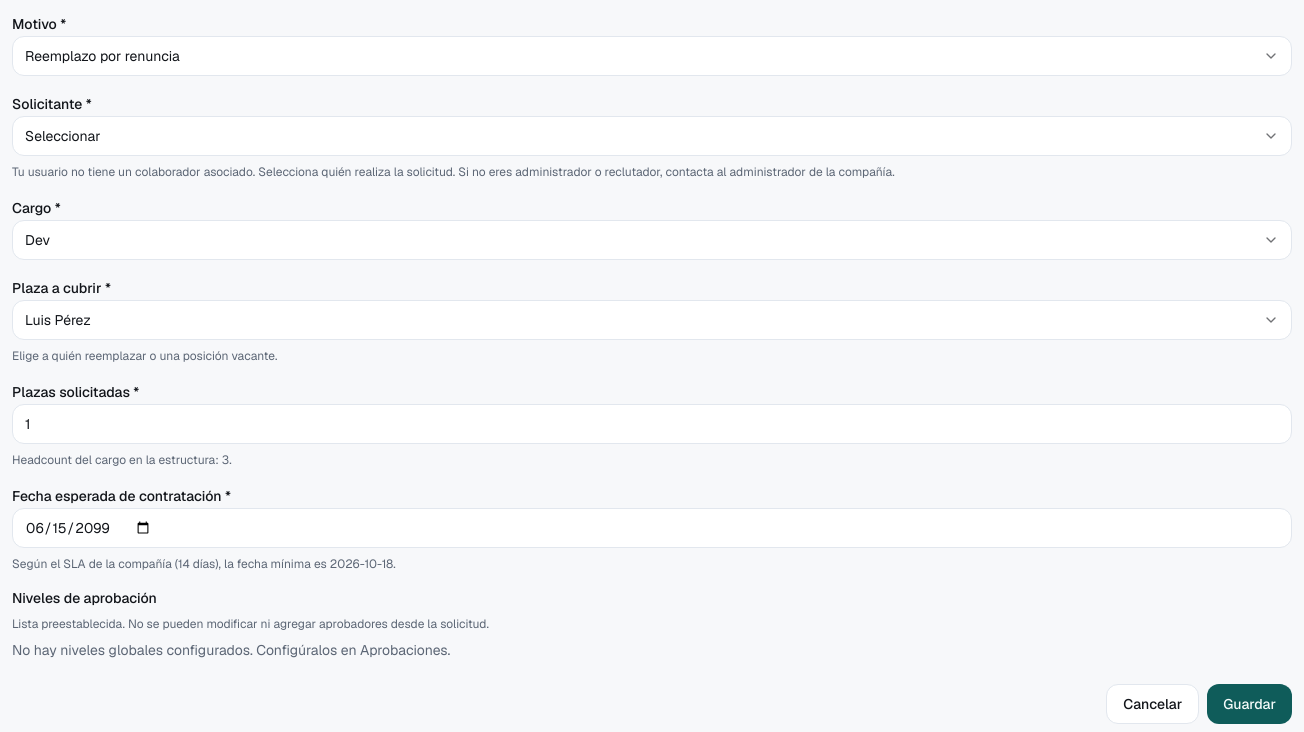
Test: VacancyRequestForm requester field › does not offer Yo and requires a collaborator when none is linked
Click the dropdown labelled "Seleccionar": (63, 136) 12,116 -> 1292,156
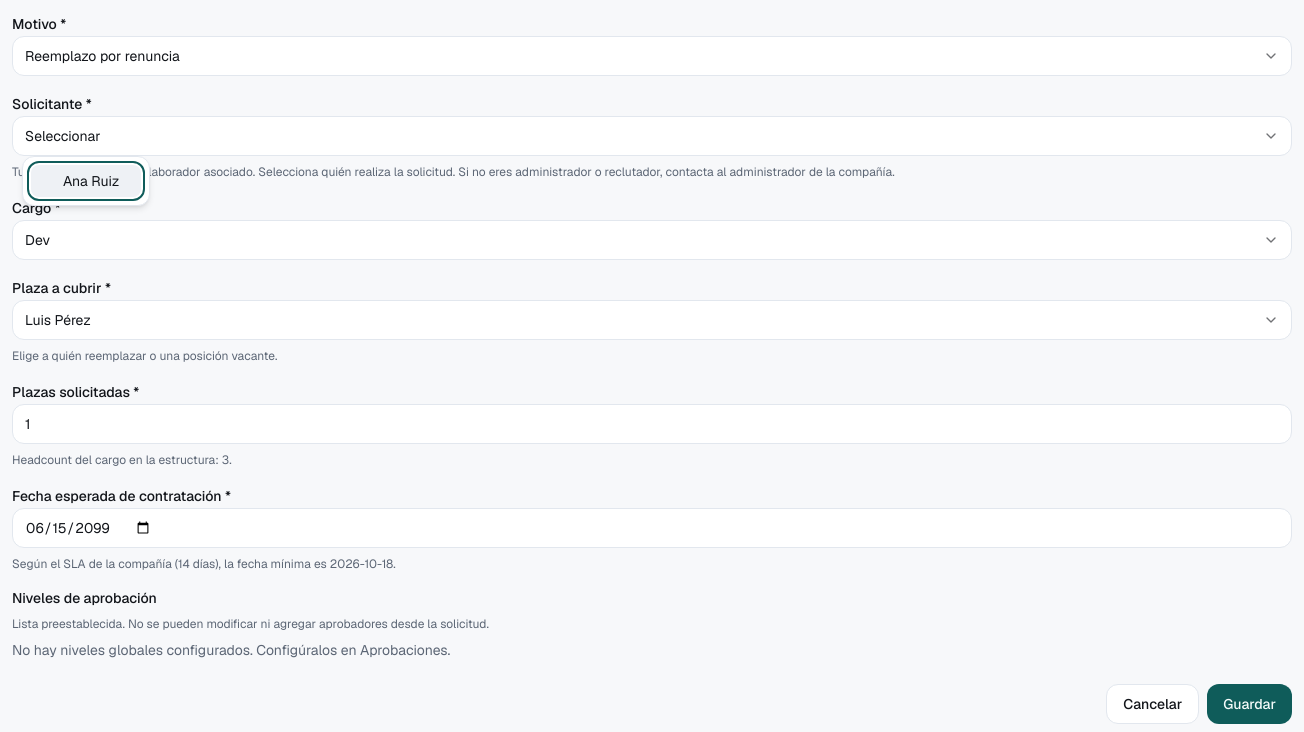
Check: the option "Ana Ruiz" is shown, box 31,165 -> 141,197
